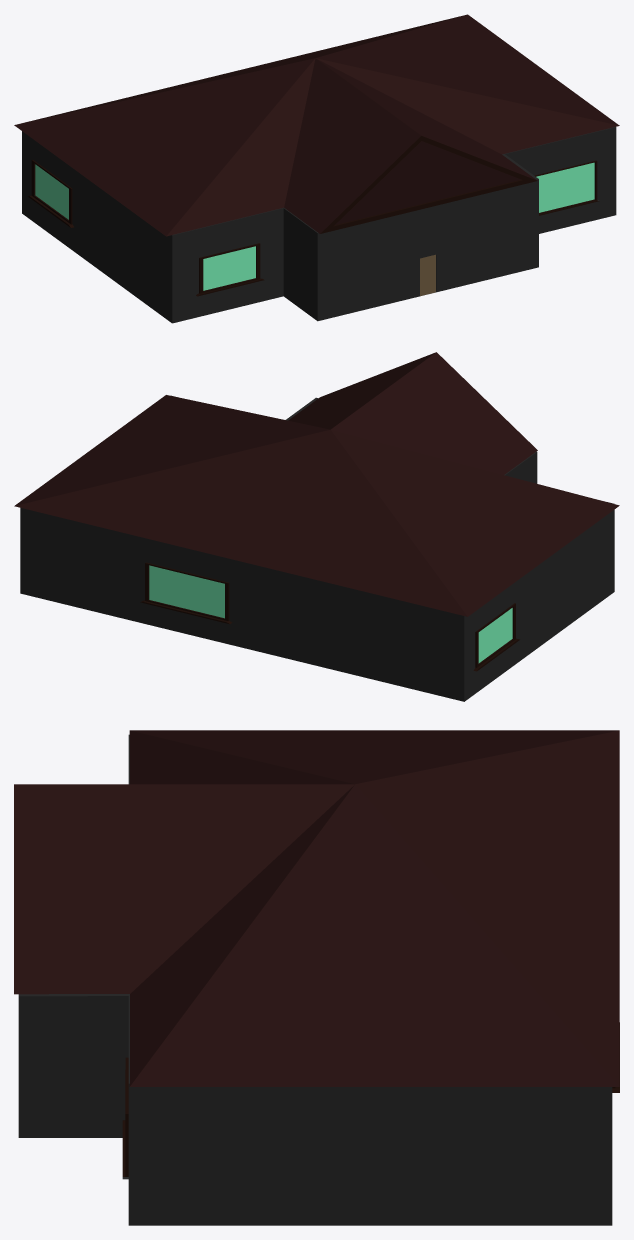
File: NewHouse4.FBX
The picture shows the model from 3 angles, top to bottom: view 1: azimuth 30°, elevation 25°; view 2: azimuth 150°, elevation 25°; view 3: azimuth 270°, elevation 25°; orthographic projection. The views are drawn at different scales.
Visible parts, largest first — view 1: Newhouse4; view 2: Newhouse4; view 3: Newhouse4.
Part boxes in pixels (x1,y1,x2,y2): Newhouse4: (14, 14, 619, 323); Newhouse4: (14, 352, 619, 701); Newhouse4: (14, 730, 619, 1225).
Size of the model in its own units: 1053 by 359 by 756.
